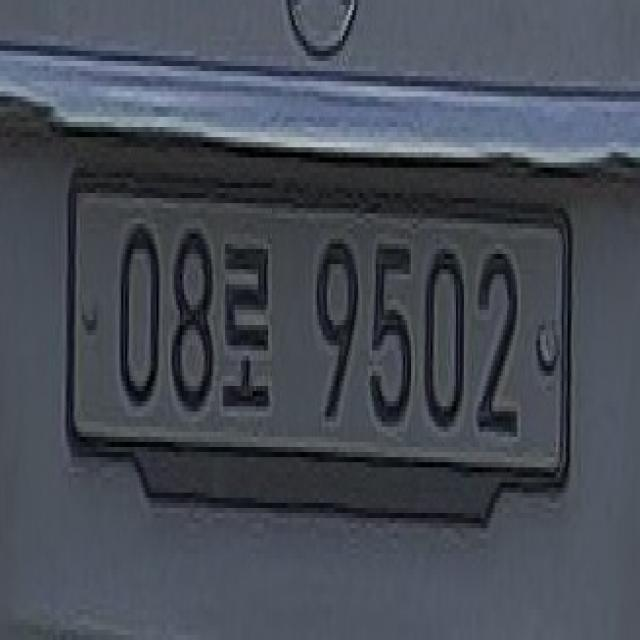0: (116, 213, 162, 409), (424, 238, 468, 437)
2: (472, 238, 532, 450)
5: (364, 234, 418, 436)
8: (168, 214, 216, 423)
9: (316, 228, 360, 441)
license_plate: (51, 166, 582, 510)
lo: (220, 226, 280, 424)
